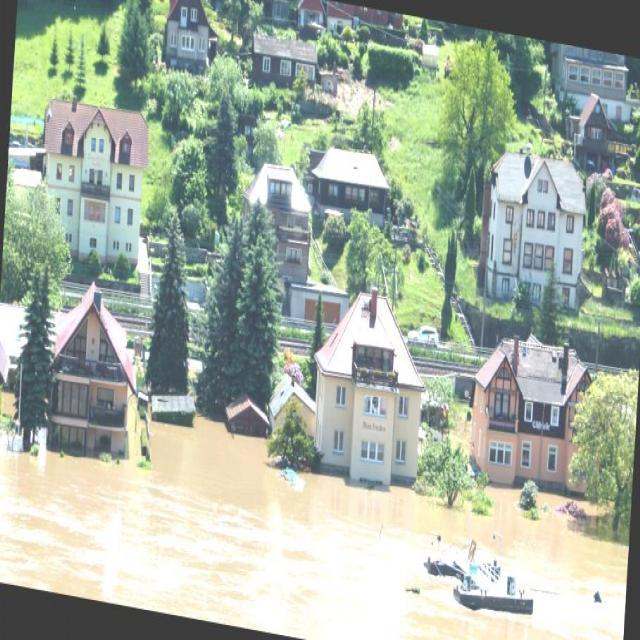flood: (0, 357, 633, 639)
